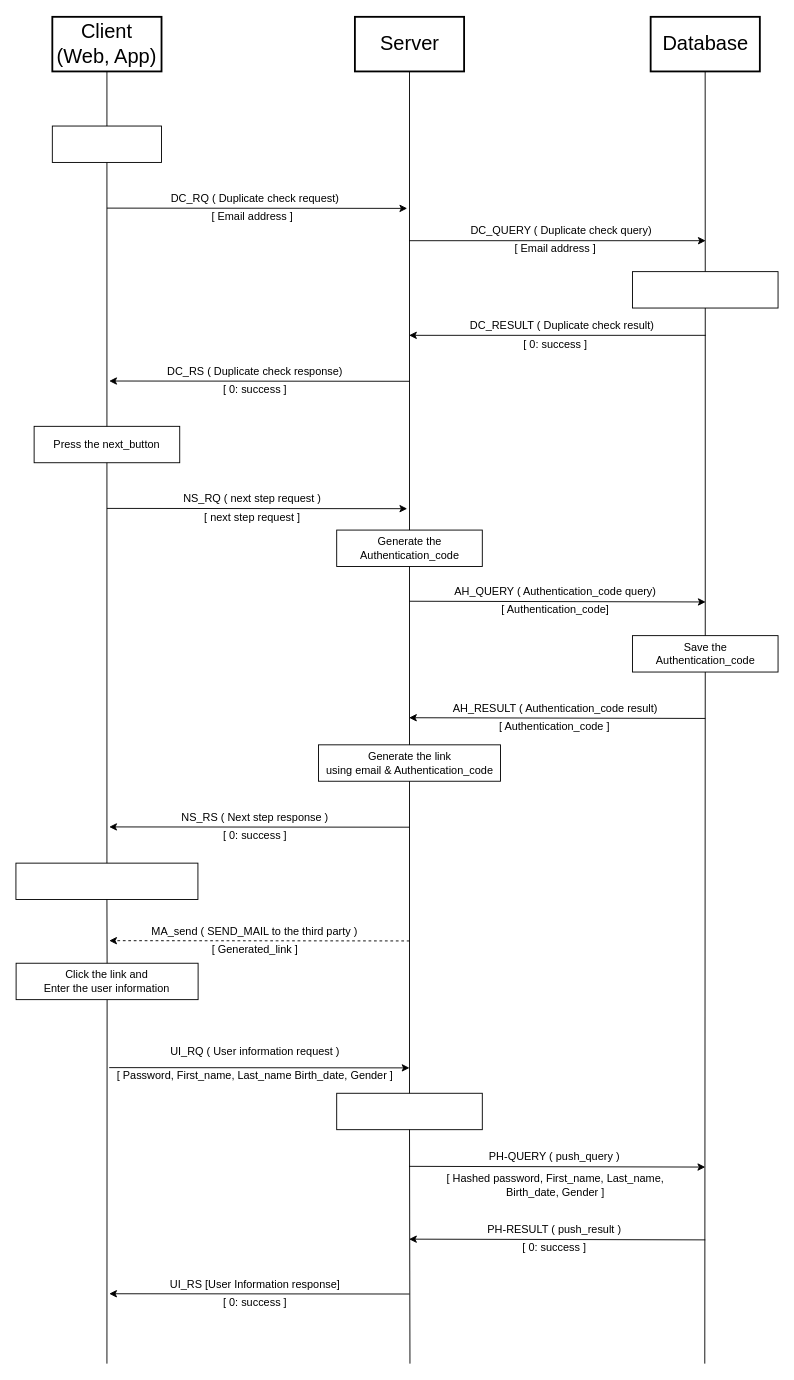
Some shapes in this 794 by 1380 pixel diagram are drawn without their labels. The box of each missing label's shape, as (x1, y1, x2, y2) in pixels:
Check the email_duplicate & Save the email address: (632, 271, 778, 308)
Encrpyt the password: (336, 1092, 482, 1130)
Enter the email address: (51, 125, 162, 162)
Show the message that mail has been sent: (15, 862, 198, 900)
